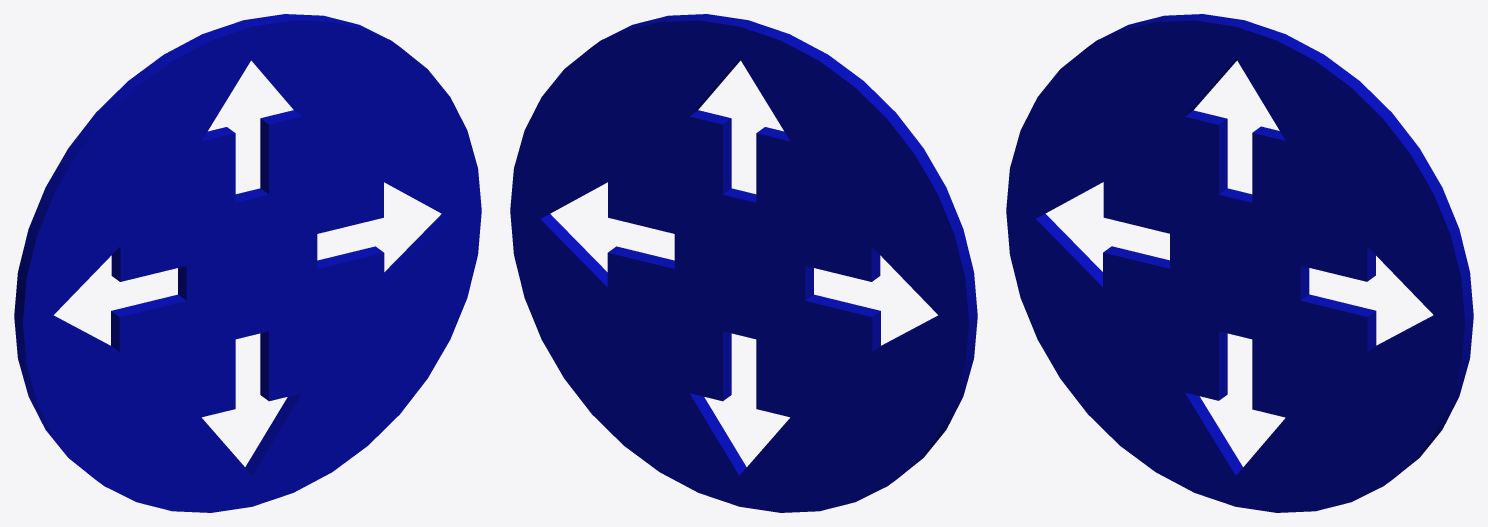
Rendered from Joystick_1.FBX.
3 renders of one model, left to right at view 1: azimuth 30°, elevation 25°; view 2: azimuth 150°, elevation 25°; view 3: azimuth 330°, elevation 25°, orthographic.
Parts seen in each view (by area): view 1: Joystick_1; view 2: Joystick_1; view 3: Joystick_1.
Boxes of the visible parts, left/top/right/bottom form: Joystick_1: left=14, top=14, right=481, bottom=512; Joystick_1: left=510, top=14, right=977, bottom=512; Joystick_1: left=1006, top=14, right=1473, bottom=512.
Size of the model in its own units: 91.74 by 91.74 by 3.
